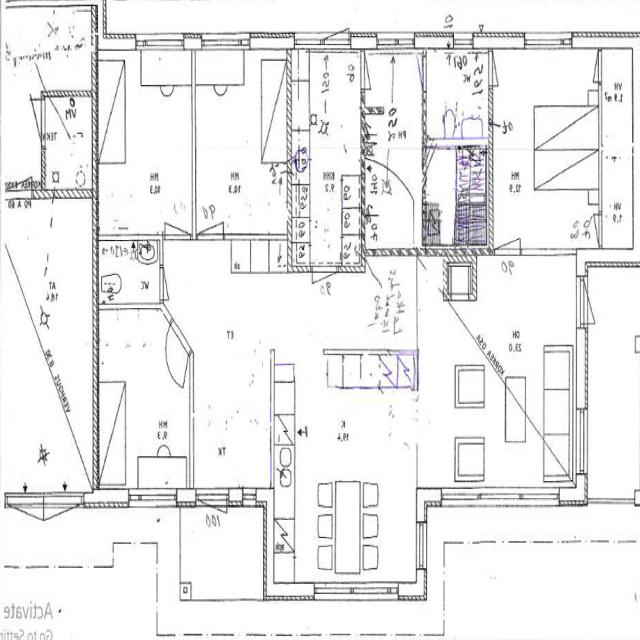door: (44, 494, 81, 569), (7, 494, 43, 569), (152, 320, 191, 384), (198, 489, 226, 554), (576, 280, 614, 324), (12, 100, 45, 146), (6, 148, 31, 199), (164, 192, 190, 240), (197, 192, 223, 240), (494, 207, 520, 255), (324, 0, 349, 49), (312, 266, 337, 314), (398, 153, 427, 194), (399, 53, 426, 92), (361, 51, 388, 89), (488, 51, 514, 85), (160, 268, 183, 300), (579, 50, 602, 82), (579, 214, 602, 246)
